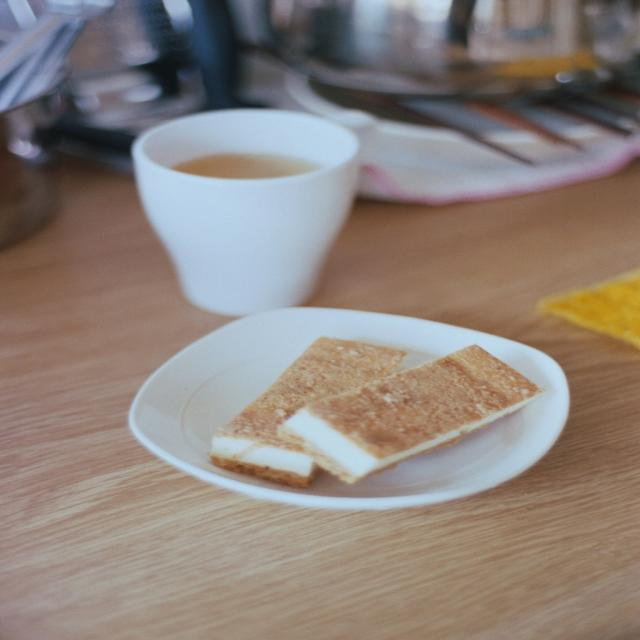Tea: (171, 153, 325, 181)
